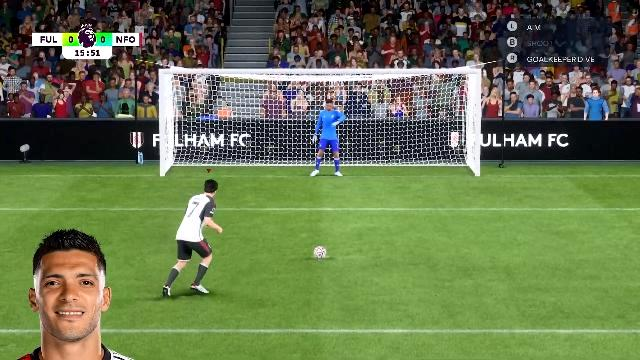bottom-left: (165, 126, 268, 176)
bottom-right: (376, 126, 474, 176)
center-down: (268, 126, 374, 176)
center-up: (268, 74, 376, 124)
circle: (312, 255, 328, 257)
football: (314, 246, 326, 257)
goalkeeper: (308, 100, 344, 180)
player: (160, 179, 228, 301)
top-left: (166, 74, 268, 126)
top-right: (376, 74, 474, 124)
